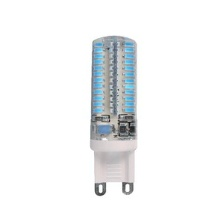light_bulb: (83, 32, 142, 197)
